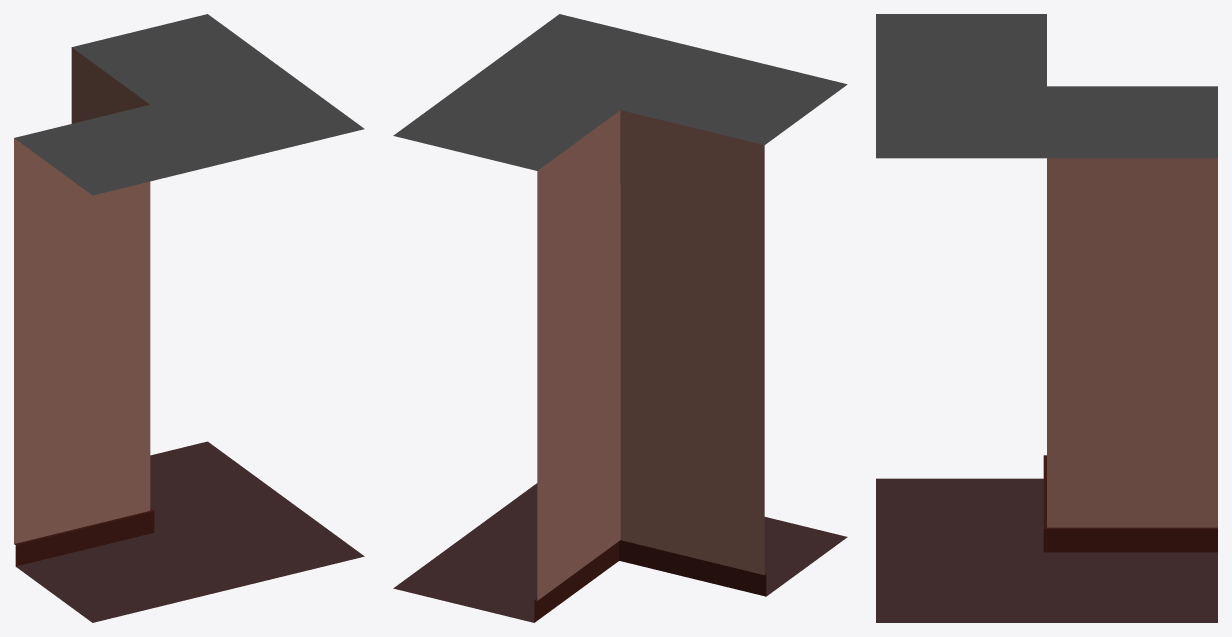
The model's file is Tile_05.fbx.
3 views of the same model, side by side, from view 1: azimuth 30°, elevation 25°; view 2: azimuth 150°, elevation 25°; view 3: azimuth 270°, elevation 25° (orthographic). The views are drawn at different scales.
Parts seen in each view (by area): view 1: Tile_05; view 2: Tile_05; view 3: Tile_05.
Part boxes in pixels (left/top/right/bottom): Tile_05: left=14, top=14, right=364, bottom=622; Tile_05: left=393, top=14, right=847, bottom=622; Tile_05: left=876, top=14, right=1217, bottom=622.
Bounding box in the file's own units: 200 × 300 × 200.
